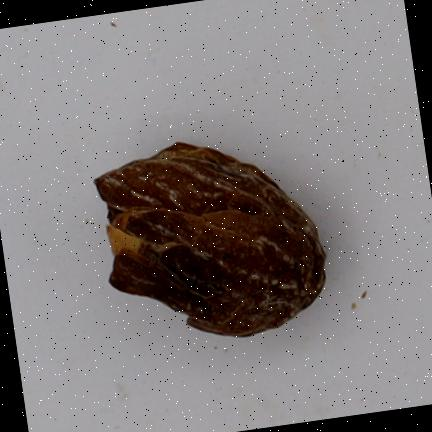full-black: (95, 142, 325, 336)
